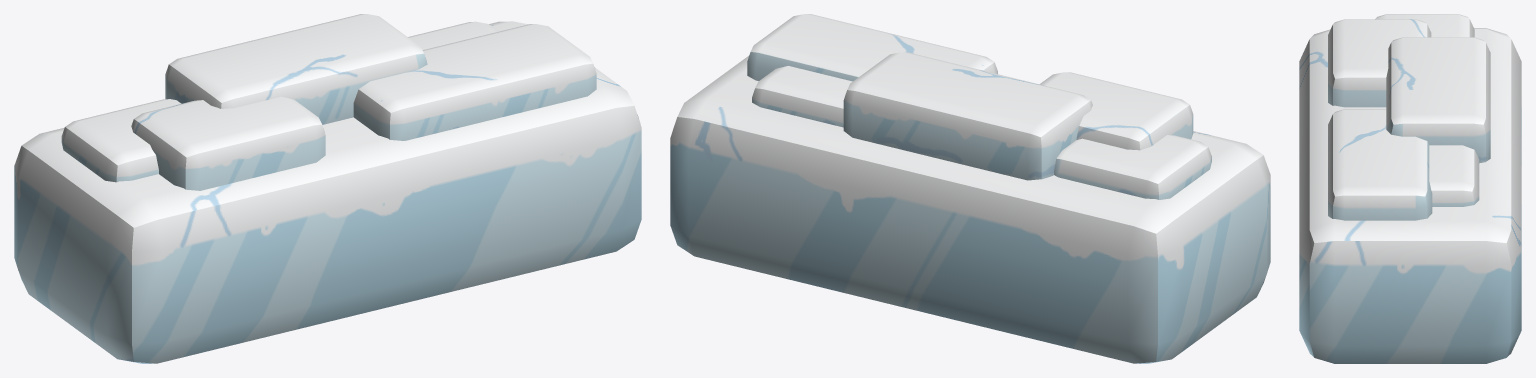
The model's file is SM_EnemyIceberg_01a.fbx.
3 views of the same model, side by side, from view 1: azimuth 30°, elevation 25°; view 2: azimuth 150°, elevation 25°; view 3: azimuth 270°, elevation 25° (orthographic). The views are drawn at different scales.
Visible parts, largest first — view 1: SM_EnemyIceberg_01a, SM_EnemyIceberg_01a2, SM_EnemyIceberg_01a1, SM_EnemyIceberg_01a3, SM_EnemyIceberg_01a4, SM_EnemyIceberg_01a5; view 2: SM_EnemyIceberg_01a, SM_EnemyIceberg_01a1, SM_EnemyIceberg_01a2, SM_EnemyIceberg_01a4, SM_EnemyIceberg_01a3, SM_EnemyIceberg_01a5; view 3: SM_EnemyIceberg_01a, SM_EnemyIceberg_01a1, SM_EnemyIceberg_01a2, SM_EnemyIceberg_01a3, SM_EnemyIceberg_01a5, SM_EnemyIceberg_01a4.
Part boxes in pixels (x1,y1,x2,y2): SM_EnemyIceberg_01a: (14, 21, 641, 363); SM_EnemyIceberg_01a2: (353, 24, 596, 140); SM_EnemyIceberg_01a1: (165, 14, 427, 124); SM_EnemyIceberg_01a3: (131, 96, 325, 190); SM_EnemyIceberg_01a4: (61, 99, 181, 182); SM_EnemyIceberg_01a5: (408, 21, 498, 49); SM_EnemyIceberg_01a: (670, 56, 1270, 363); SM_EnemyIceberg_01a1: (843, 52, 1092, 180); SM_EnemyIceberg_01a2: (747, 14, 997, 81); SM_EnemyIceberg_01a4: (1054, 135, 1211, 199); SM_EnemyIceberg_01a3: (1040, 72, 1193, 150); SM_EnemyIceberg_01a5: (752, 66, 852, 127); SM_EnemyIceberg_01a: (1299, 28, 1521, 363); SM_EnemyIceberg_01a1: (1386, 37, 1490, 163); SM_EnemyIceberg_01a2: (1328, 109, 1432, 220); SM_EnemyIceberg_01a3: (1328, 19, 1431, 107); SM_EnemyIceberg_01a5: (1429, 145, 1479, 206); SM_EnemyIceberg_01a4: (1375, 14, 1474, 37).
Size of the model in its own units: 16.78 by 6.51 by 7.1.
